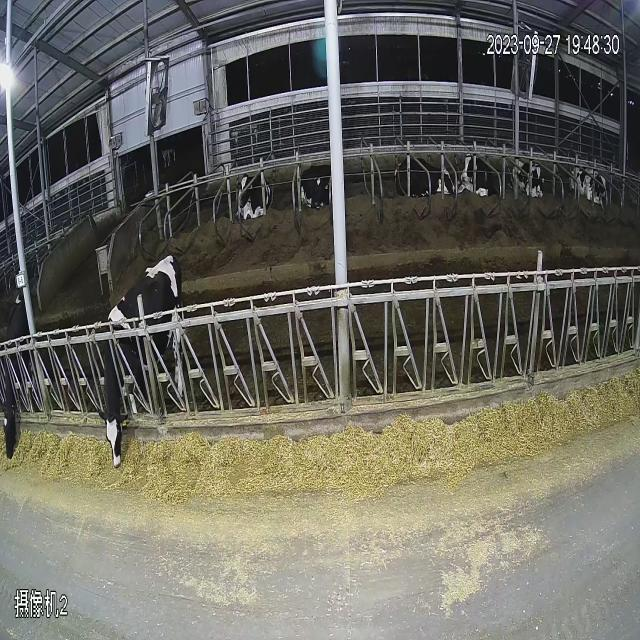feeding: (88, 219, 200, 521), (1, 260, 65, 530)
lying down: (378, 134, 456, 229), (558, 126, 612, 242), (456, 123, 504, 241), (292, 150, 361, 232), (510, 127, 554, 252), (230, 156, 280, 263)
